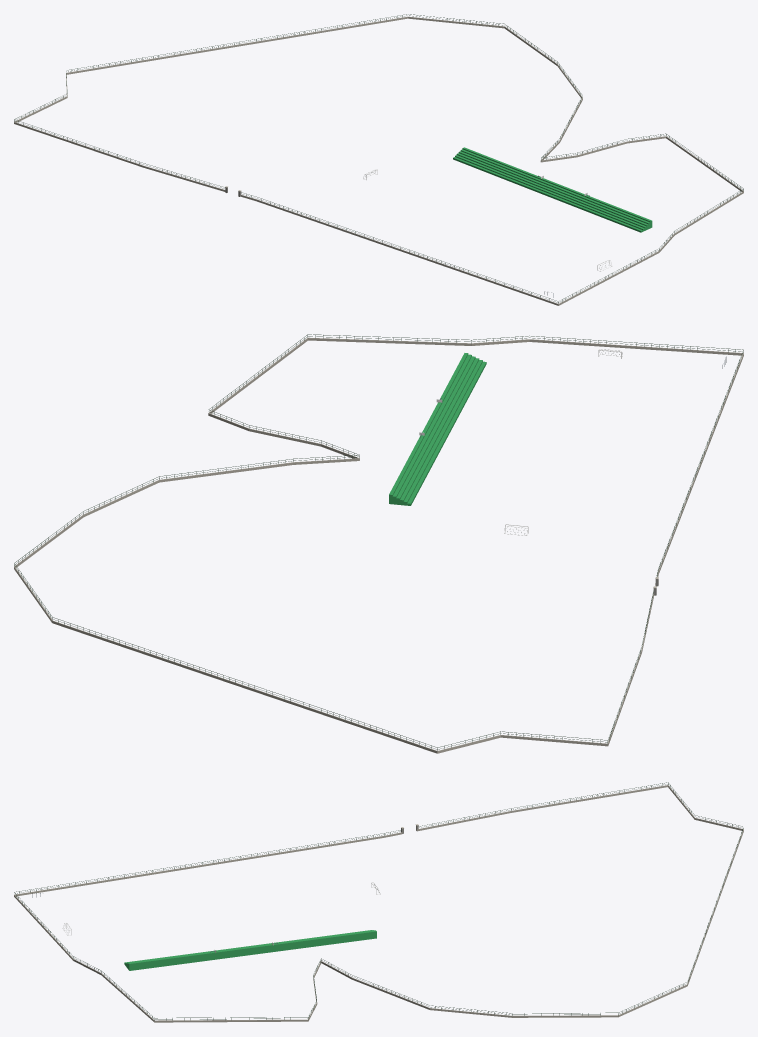
The picture shows the model from 3 angles, top to bottom: view 1: azimuth 30°, elevation 25°; view 2: azimuth 150°, elevation 25°; view 3: azimuth 270°, elevation 25°; orthographic projection. The views are drawn at different scales.
Visible parts, largest first — view 1: site-wall-concrete, site-stand-green, site-fence; view 2: site-wall-concrete, site-stand-green, site-fence; view 3: site-wall-concrete, site-stand-green, site-fence.
Boxes of the visible parts, x1,y1,x2,y2 form: site-wall-concrete: [14, 16, 743, 305]; site-stand-green: [453, 147, 652, 232]; site-fence: [14, 14, 743, 303]; site-wall-concrete: [14, 337, 743, 753]; site-stand-green: [389, 353, 486, 505]; site-fence: [14, 334, 743, 750]; site-wall-concrete: [14, 785, 743, 1022]; site-stand-green: [124, 930, 376, 970]; site-fence: [14, 782, 743, 1020].
Bounding box in the file's own units: 237 × 4.25 × 310.
